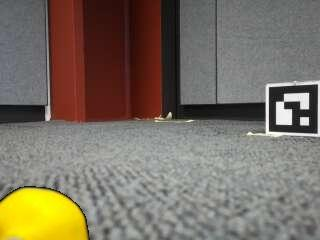lemon: (0, 189, 86, 240)
